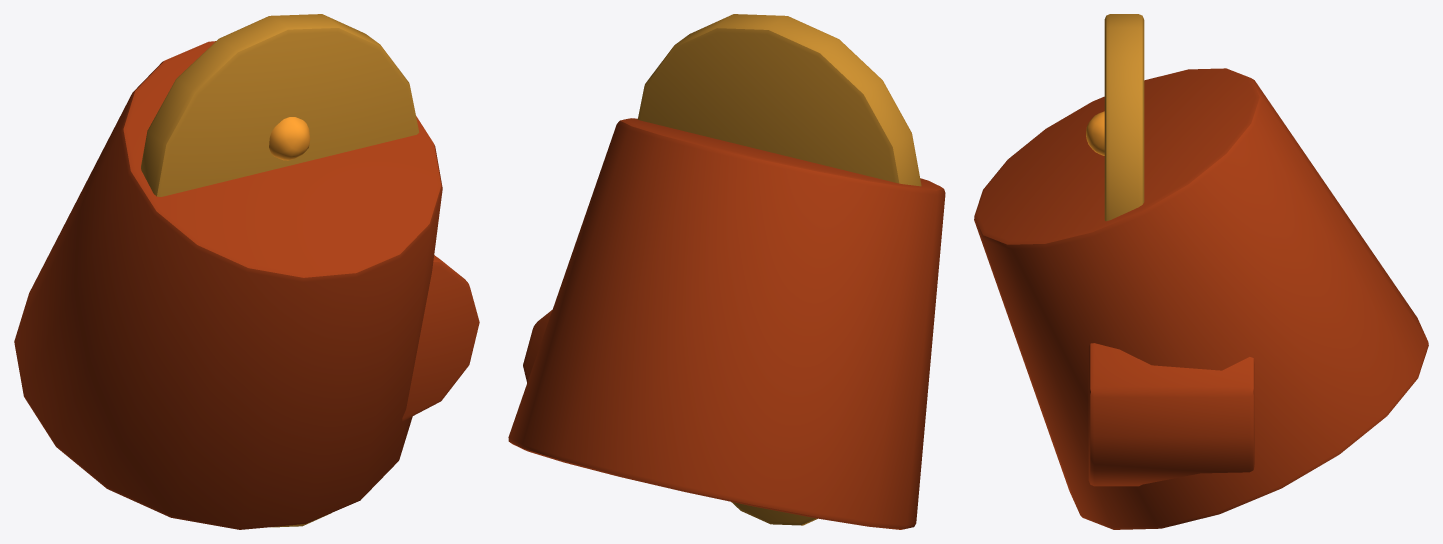
Rendered from MortarA1.obj.
3 views of the same model, side by side, from view 1: azimuth 30°, elevation 25°; view 2: azimuth 150°, elevation 25°; view 3: azimuth 270°, elevation 25° (orthographic). The views are drawn at different scales.
Parts seen in each view (by area): view 1: MortarA1; view 2: MortarA1; view 3: MortarA1.
Boxes of the visible parts, <box> form: MortarA1: <box>14,14,479,529</box>; MortarA1: <box>508,14,945,529</box>; MortarA1: <box>974,14,1428,529</box>.
Bounding box in the file's own units: 1.01 × 1.31 × 1.15.
